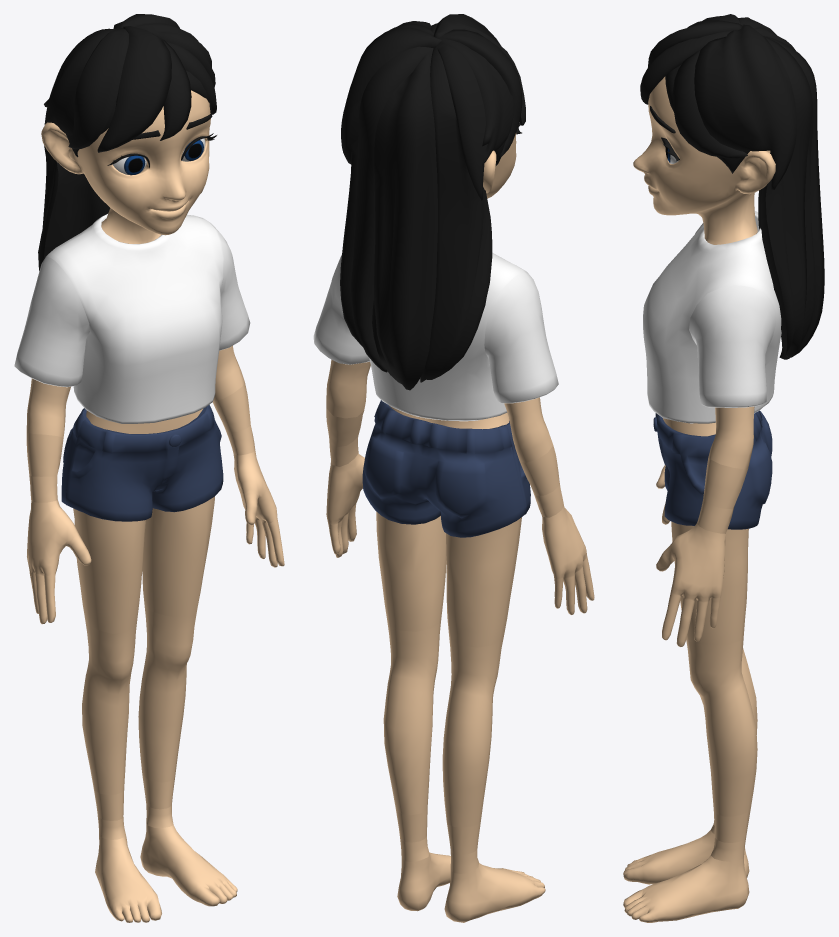
File: test_girl_01.FBX
The picture shows the model from 3 angles, left to right: view 1: azimuth 30°, elevation 25°; view 2: azimuth 150°, elevation 25°; view 3: azimuth 270°, elevation 25°; orthographic projection. The views are drawn at different scales.
Visible parts, largest first — view 1: Girl_body, tshirt, Hair, pants, Eyeballs, eyeballs; view 2: Girl_body, Hair, tshirt, pants; view 3: Girl_body, Hair, tshirt, pants.
Part boxes in pixels (box(x1,y1,x2,y2)): Girl_body: box(26, 90, 284, 922); tshirt: box(14, 214, 250, 423); Hair: box(38, 14, 216, 270); pants: box(61, 404, 223, 521); Eyeballs: box(113, 138, 205, 175); eyeballs: box(107, 114, 216, 168); Girl_body: box(326, 133, 594, 922); Hair: box(340, 14, 525, 390); tshirt: box(313, 252, 558, 421); pants: box(362, 400, 530, 537); Girl_body: box(623, 76, 775, 922); Hair: box(640, 14, 824, 359); tshirt: box(643, 211, 781, 423); pants: box(653, 410, 772, 529).
Size of the model in its own units: 49.63 by 170 by 35.49.
